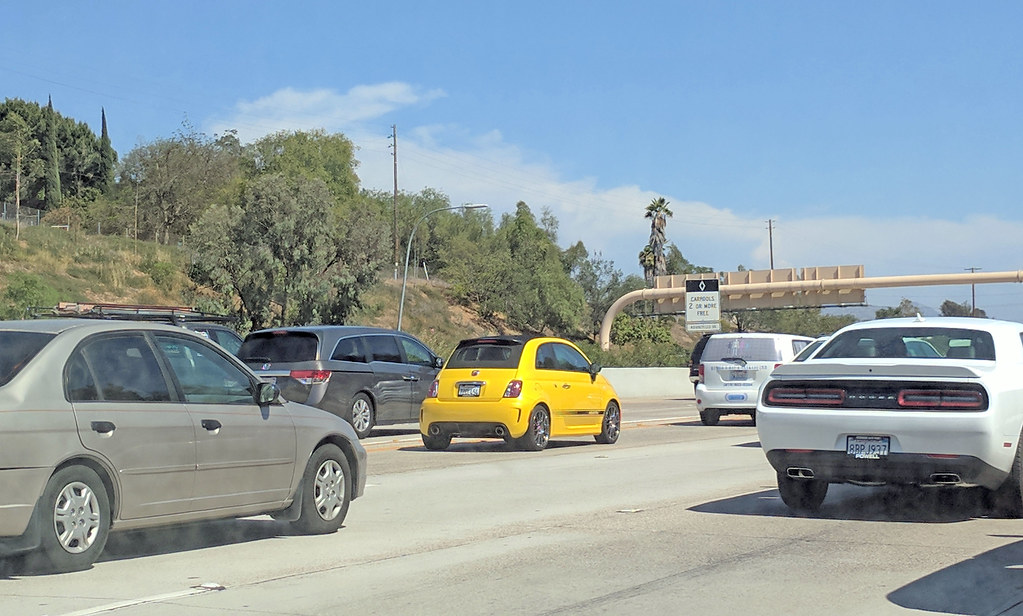car: (1, 300, 365, 584), (752, 314, 1019, 516), (423, 328, 626, 454)
